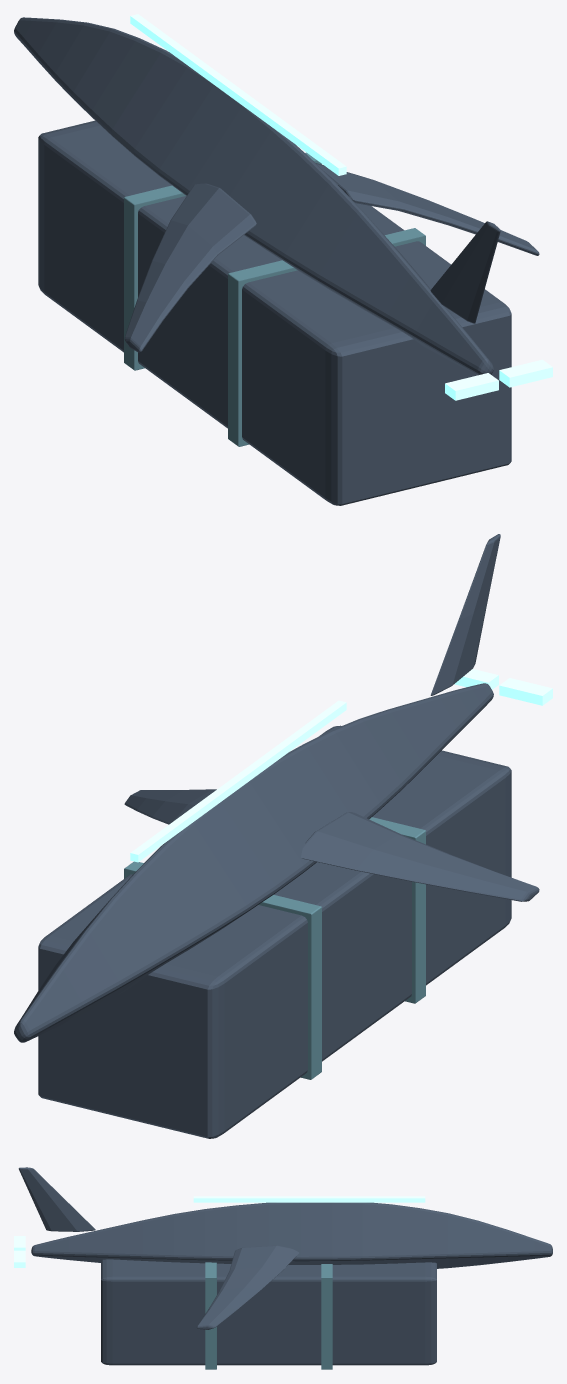
Rendered from shadur-kai-freighter.glb.
The picture shows the model from 3 angles, top to bottom: view 1: azimuth 30°, elevation 25°; view 2: azimuth 150°, elevation 25°; view 3: azimuth 270°, elevation 25°; orthographic projection. The views are drawn at different scales.
Visible parts, largest first — view 1: Cube, hull, wing, Cube.002, wing.001, fin, Cube.004, Cube.001, Cube.005, Cube.006; view 2: Cube, hull, wing, fin, Cube.004, Cube.001, Cube.002, wing.001, Cube.005; view 3: Cube, hull, wing.001, fin, Cube.004, Cube.001, Cube.002.
Boxes of the visible parts, x1,y1,x2,y2 form: Cube: (38, 120, 511, 505); hull: (14, 17, 493, 375); wing: (124, 183, 256, 352); Cube.002: (228, 228, 425, 446); wing.001: (316, 163, 539, 255); fin: (430, 221, 500, 323); Cube.004: (130, 14, 346, 175); Cube.001: (124, 152, 321, 370); Cube.005: (445, 373, 498, 400); Cube.006: (499, 359, 552, 387); Cube: (38, 725, 511, 1138); hull: (14, 683, 493, 1042); wing: (301, 812, 539, 901); fin: (430, 534, 500, 695); Cube.004: (130, 700, 346, 862); Cube.001: (124, 861, 321, 1079); Cube.002: (369, 817, 425, 1003); wing.001: (124, 789, 216, 824); Cube.005: (499, 678, 552, 705); Cube: (101, 1259, 436, 1365); hull: (31, 1202, 552, 1268); wing.001: (196, 1245, 298, 1329); fin: (18, 1167, 95, 1231); Cube.004: (193, 1196, 425, 1202); Cube.001: (321, 1264, 332, 1369); Cube.002: (205, 1262, 216, 1369).
Size of the model in its own units: 2.22 by 1.68 by 4.65.
